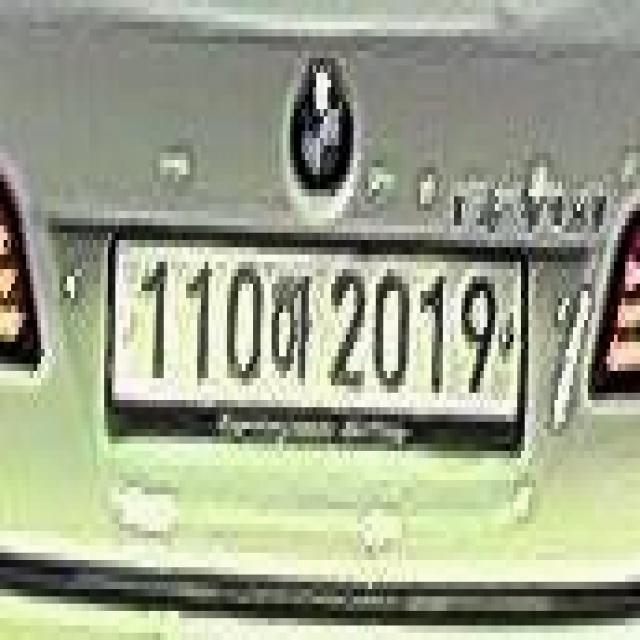illegal_plate: (102, 219, 530, 475)
